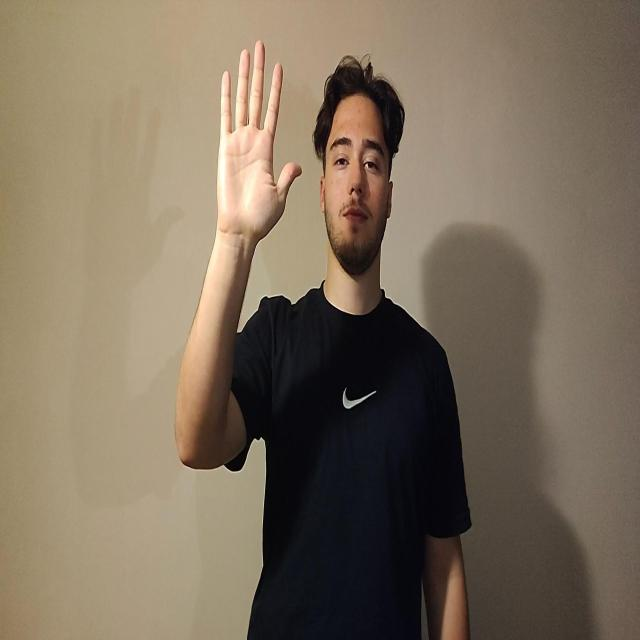hello: (215, 38, 302, 245)
